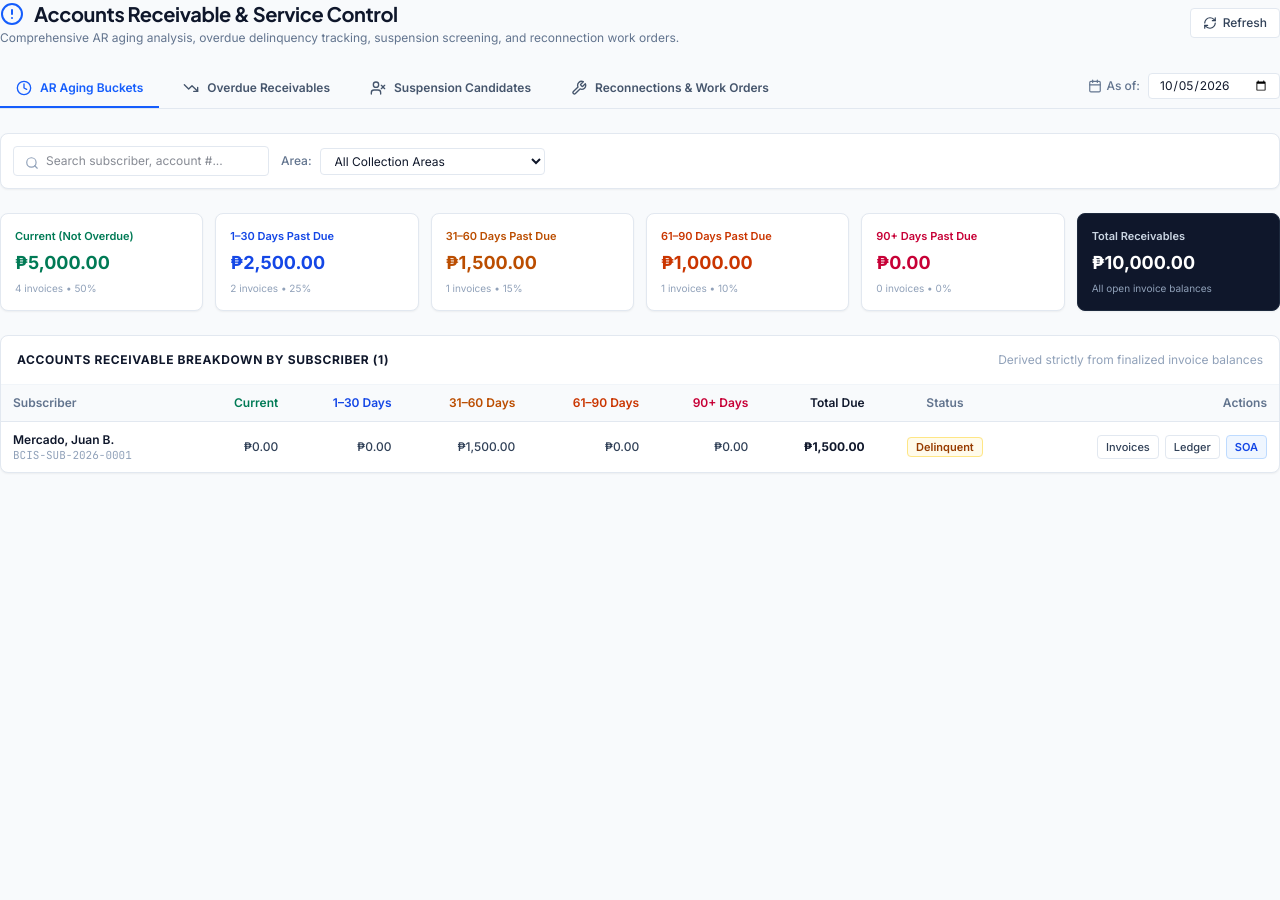
Test case: ReceivablesPage Component (Phase 7 - Receivables, Aging, Suspension & Reconnection) › opens Subscriber Financial Ledger modal when Ledger button is clicked in AR Aging table
Expected: the text "Mercado, Juan B." is shown, left=13, top=432, right=114, bottom=446
Click the button "Ledger" at (1192, 447), box left=1165, top=434, right=1220, bottom=459
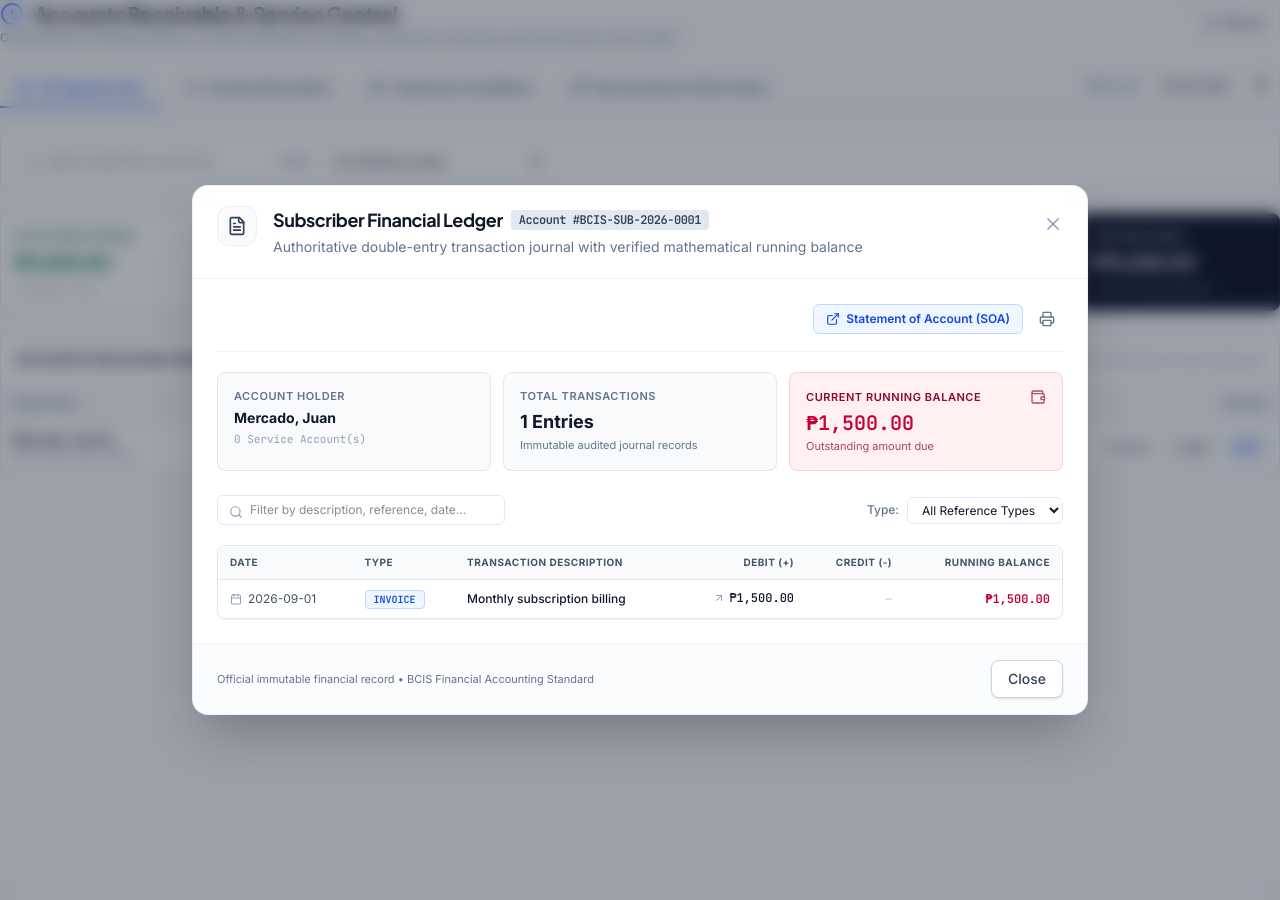
Result: the text "Subscriber Financial Ledger" is shown at left=273, top=206, right=503, bottom=234
Result: the text "Monthly subscription billing" is shown at left=467, top=591, right=626, bottom=606
